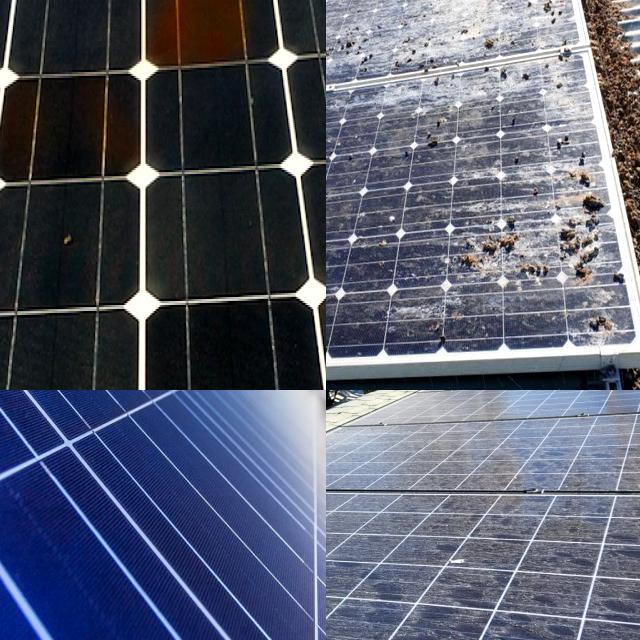bird: (452, 218, 551, 284), (550, 195, 606, 284), (490, 115, 544, 183), (390, 23, 444, 86), (394, 114, 462, 162), (390, 312, 464, 346), (433, 0, 517, 29), (579, 296, 628, 344), (326, 28, 379, 72), (474, 58, 542, 90), (561, 140, 595, 196), (466, 24, 524, 54), (544, 41, 590, 78), (528, 0, 567, 32), (326, 268, 351, 308), (526, 0, 563, 26), (326, 41, 345, 90), (326, 175, 348, 208)
crack: (17, 414, 324, 640), (0, 390, 138, 640)
dust: (490, 501, 640, 605), (490, 410, 640, 487), (326, 505, 453, 589), (326, 438, 461, 487), (326, 508, 386, 612), (326, 597, 463, 640), (461, 390, 640, 411)
shadow: (136, 0, 271, 73), (0, 56, 63, 198), (84, 52, 134, 195)
